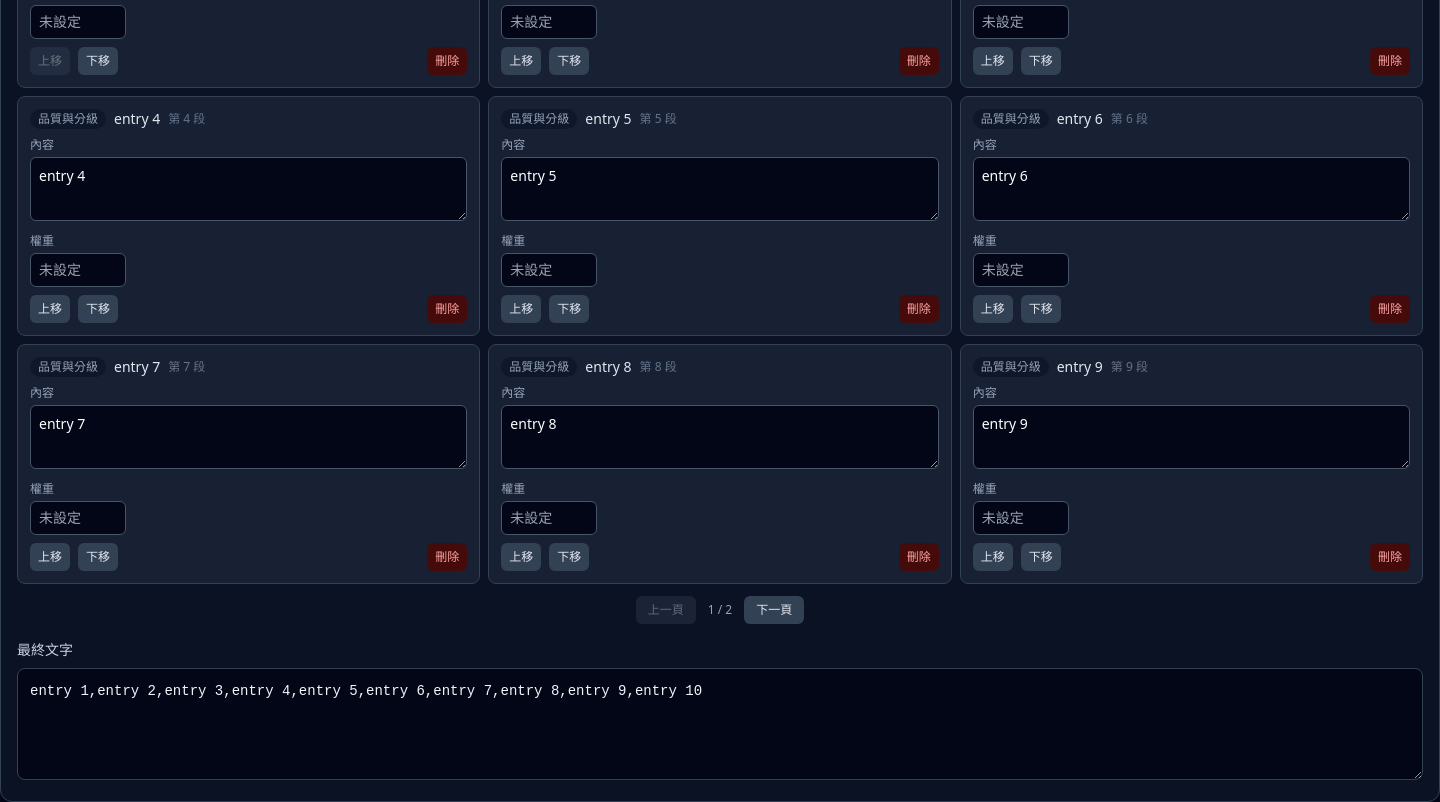
Test case: PromptComposerPanel › resets to page 1 when the filter changes
(page scrolled)
Click the button with aria-label "下一頁": (774, 610) [744,596,804,624]
(page scrolled)
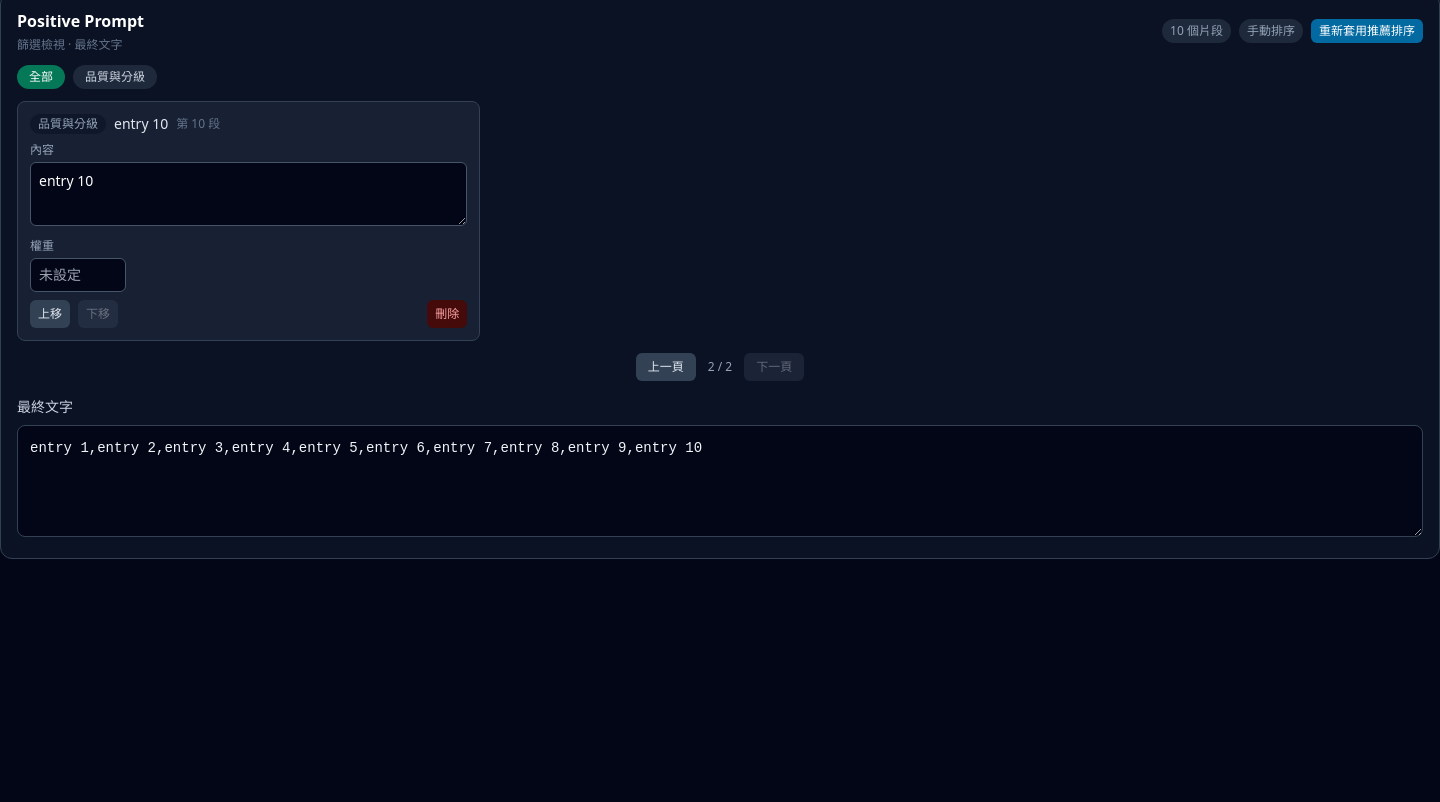
Expected: the text "2 / 2" is shown, [708,359,732,375]
Click the button "品質與分級": (115, 77) [73,65,157,89]
(page scrolled)
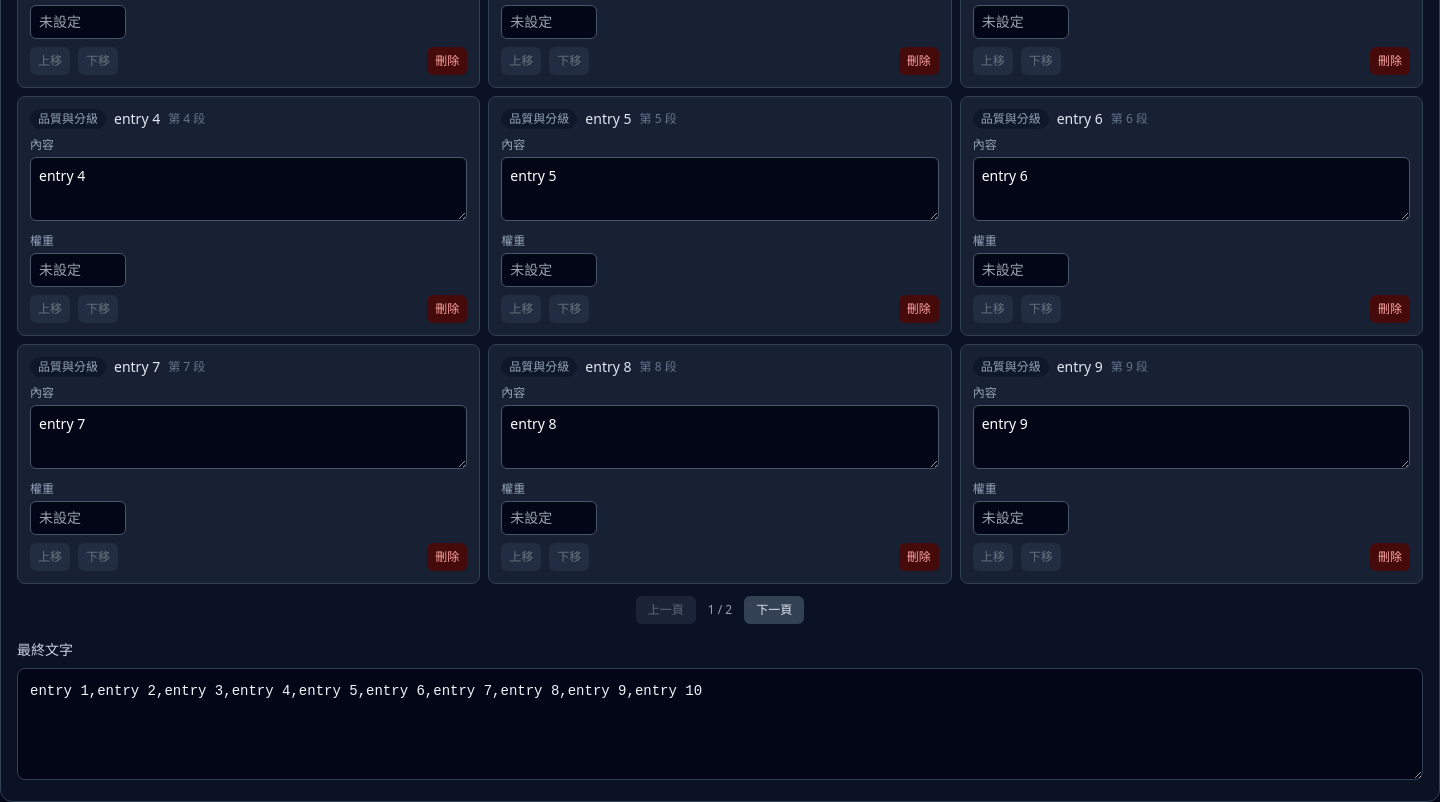
Expected: the text "1 / 2" is shown, [708,602,732,618]
